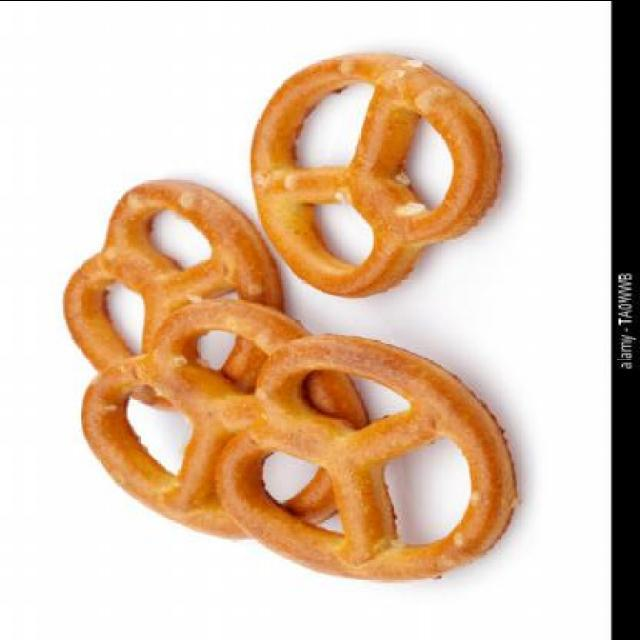Salatini packaged: (60, 48, 518, 584)
